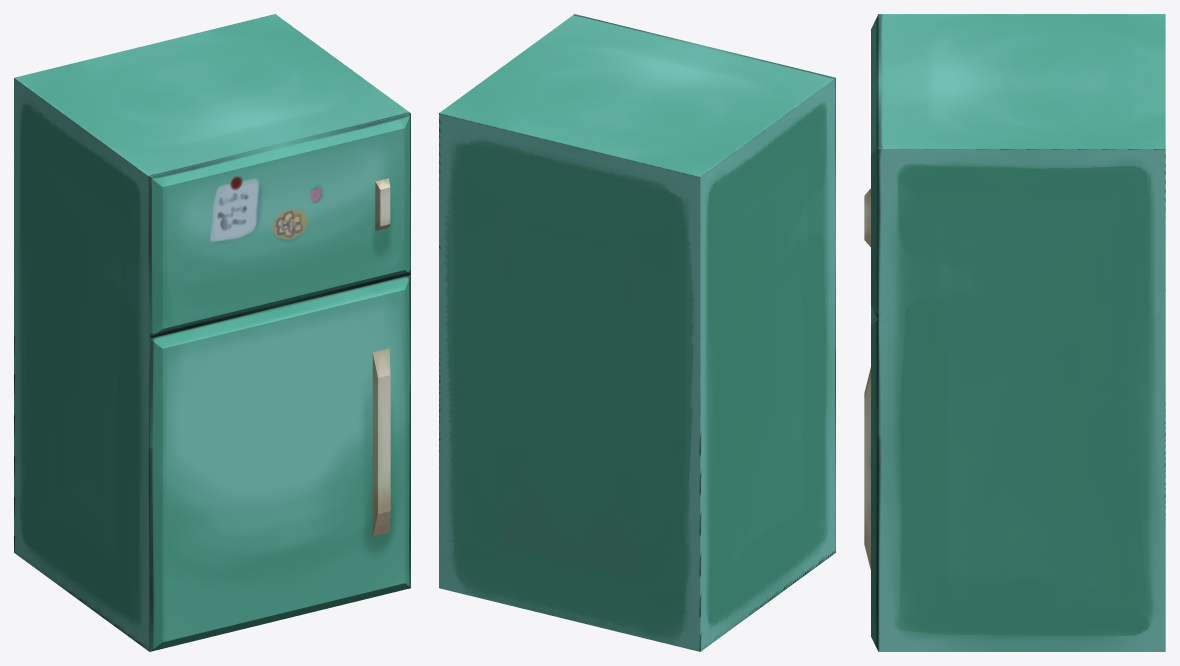
The model's file is KitchenFridge.fbx.
3 views of the same model, side by side, from view 1: azimuth 30°, elevation 25°; view 2: azimuth 150°, elevation 25°; view 3: azimuth 270°, elevation 25° (orthographic). The views are drawn at different scales.
Visible parts, largest first — view 1: KitchenFridge; view 2: KitchenFridge; view 3: KitchenFridge.
Part boxes in pixels (box(x1,y1,x2,y2)): KitchenFridge: box(14, 14, 410, 651); KitchenFridge: box(439, 14, 835, 651); KitchenFridge: box(864, 14, 1165, 651).
Size of the model in its own units: 82.21 by 143 by 77.54.
1 material, 1 textured.
